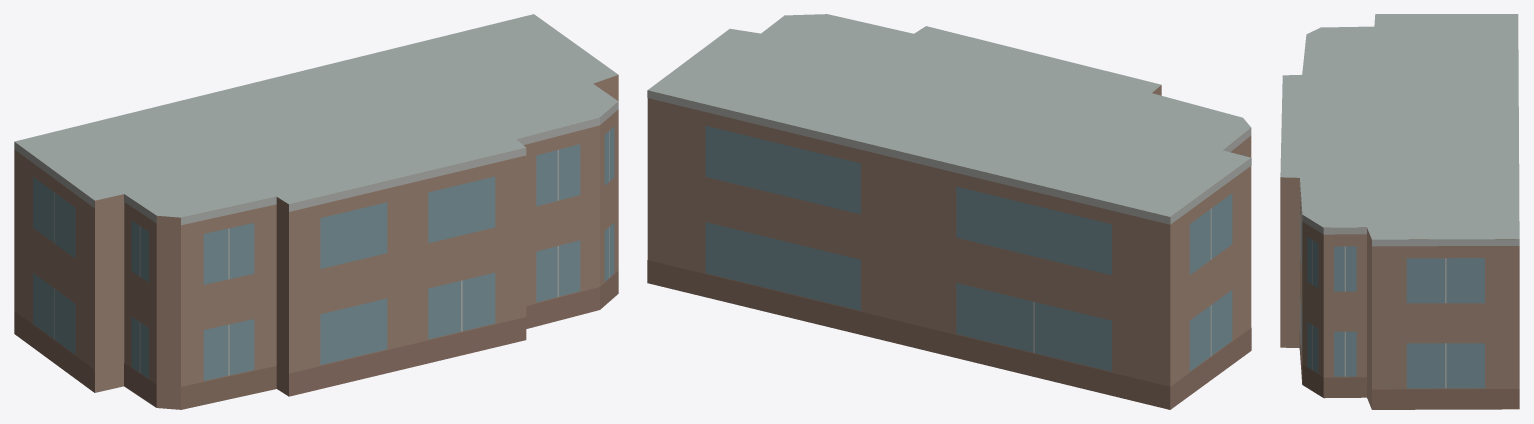
Rendered from survey-upis-32659474.glb.
3 renders of one model, left to right at view 1: azimuth 30°, elevation 25°; view 2: azimuth 150°, elevation 25°; view 3: azimuth 270°, elevation 25°, orthographic. The views are drawn at different scales.
Visible parts, largest first — view 1: survey-upis-32659474.tmp; view 2: survey-upis-32659474.tmp; view 3: survey-upis-32659474.tmp.
Boxes of the visible parts, left/top/right/bottom form: survey-upis-32659474.tmp: left=14, top=14, right=618, bottom=409; survey-upis-32659474.tmp: left=647, top=14, right=1251, bottom=409; survey-upis-32659474.tmp: left=1280, top=14, right=1519, bottom=409.
Bounding box in the file's own units: 17.34 × 6.1 × 7.78.
